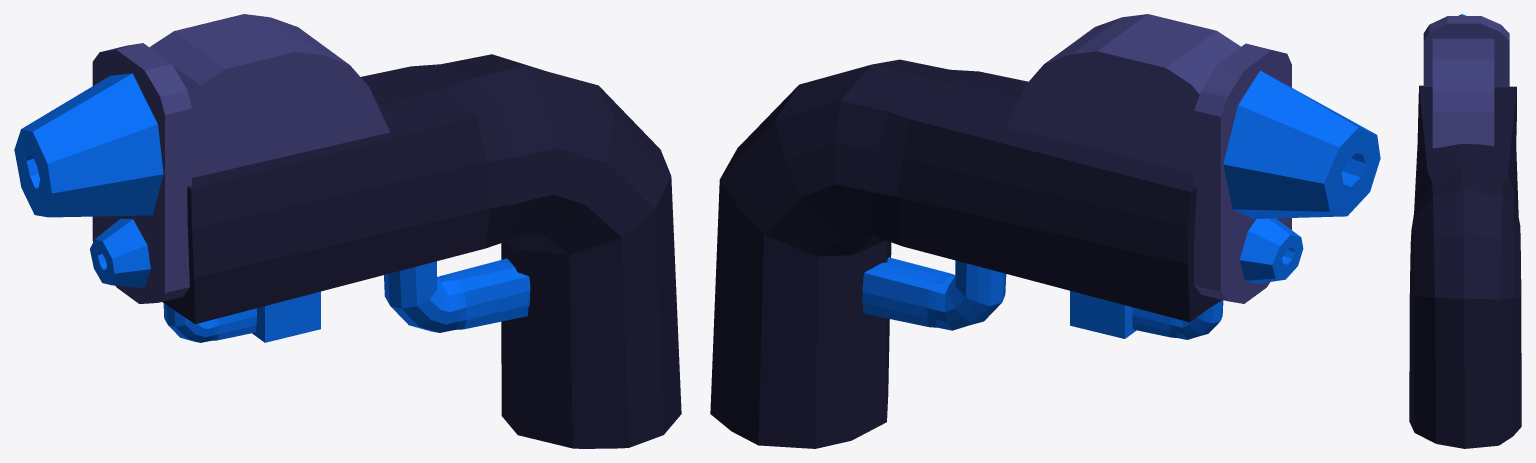
Rendered from telegun.glb.
3 views of the same model, side by side, from view 1: azimuth 30°, elevation 25°; view 2: azimuth 150°, elevation 25°; view 3: azimuth 270°, elevation 25° (orthographic). The views are drawn at different scales.
Visible parts, largest first — view 1: barrel, orb_container, orb_nozzle, mount, trigger, nozzle, bottom_handlebase, bottom_handle; view 2: barrel, orb_container, orb_nozzle, mount, trigger, nozzle, bottom_handlebase, bottom_handle; view 3: barrel, orb_container, mount.
Part boxes in pixels (box(x1,y1,x2,y2)): barrel: box(162, 54, 681, 448); orb_container: box(149, 14, 389, 177); orb_nozzle: box(14, 73, 163, 217); mount: box(92, 43, 191, 303); trigger: box(384, 258, 530, 332); nozzle: box(90, 218, 150, 287); bottom_handlebase: box(252, 291, 320, 342); bottom_handle: box(163, 303, 256, 342); barrel: box(710, 59, 1221, 448); orb_container: box(1005, 14, 1240, 173); orb_nozzle: box(1223, 70, 1380, 218); mount: box(1194, 43, 1291, 303); trigger: box(862, 257, 1006, 330); nozzle: box(1239, 218, 1303, 283); bottom_handlebase: box(1070, 291, 1136, 338); bottom_handle: box(1132, 300, 1223, 339); barrel: box(1409, 85, 1521, 448); orb_container: box(1432, 38, 1494, 148); mount: box(1423, 16, 1509, 87).
Size of the model in its own units: 5.75 by 4.11 by 1.47.
